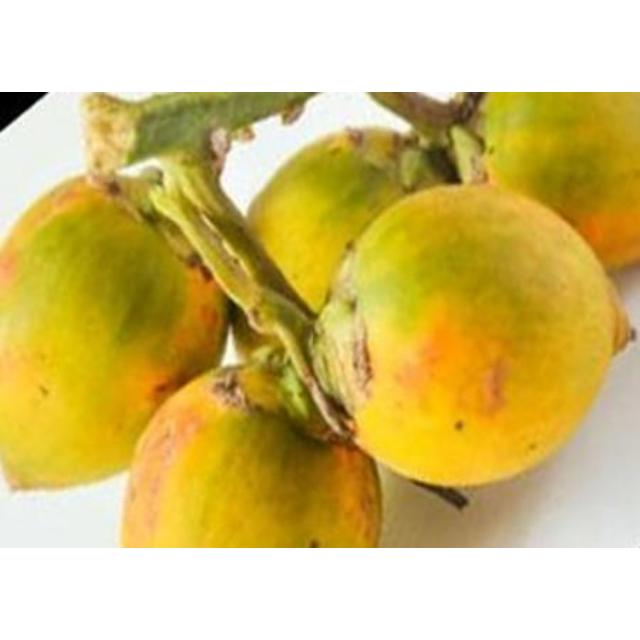good: (313, 180, 631, 496), (0, 173, 232, 493), (118, 366, 384, 547), (245, 116, 484, 315), (479, 92, 639, 274)
